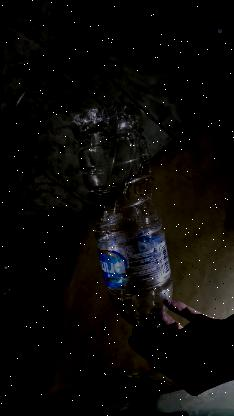Plastic Bottle: (71, 103, 175, 351)
